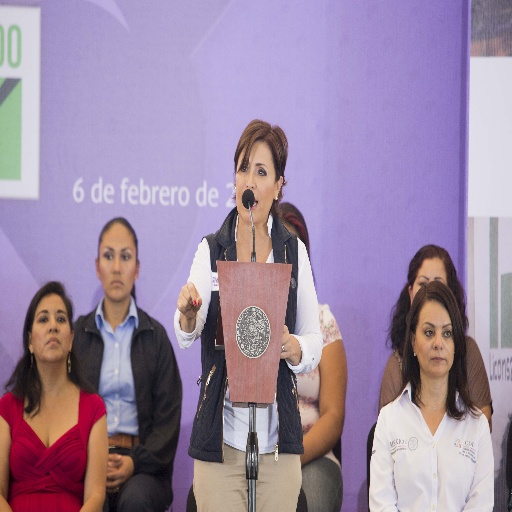hand: (105, 454, 135, 495), (176, 278, 202, 319), (105, 451, 123, 494), (279, 322, 292, 361)
